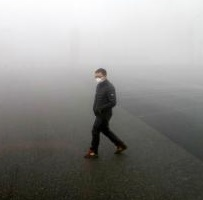person: (83, 66, 129, 160)
